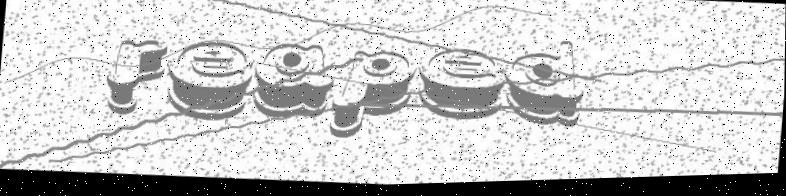a: (252, 44, 336, 123)
d: (502, 40, 589, 131)
e: (166, 38, 254, 123), (416, 48, 509, 124)
p: (331, 50, 414, 143)
r: (104, 38, 168, 118)
